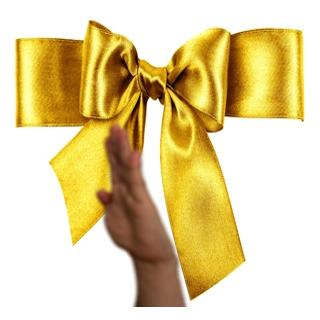RIGHT: (91, 118, 174, 259)
